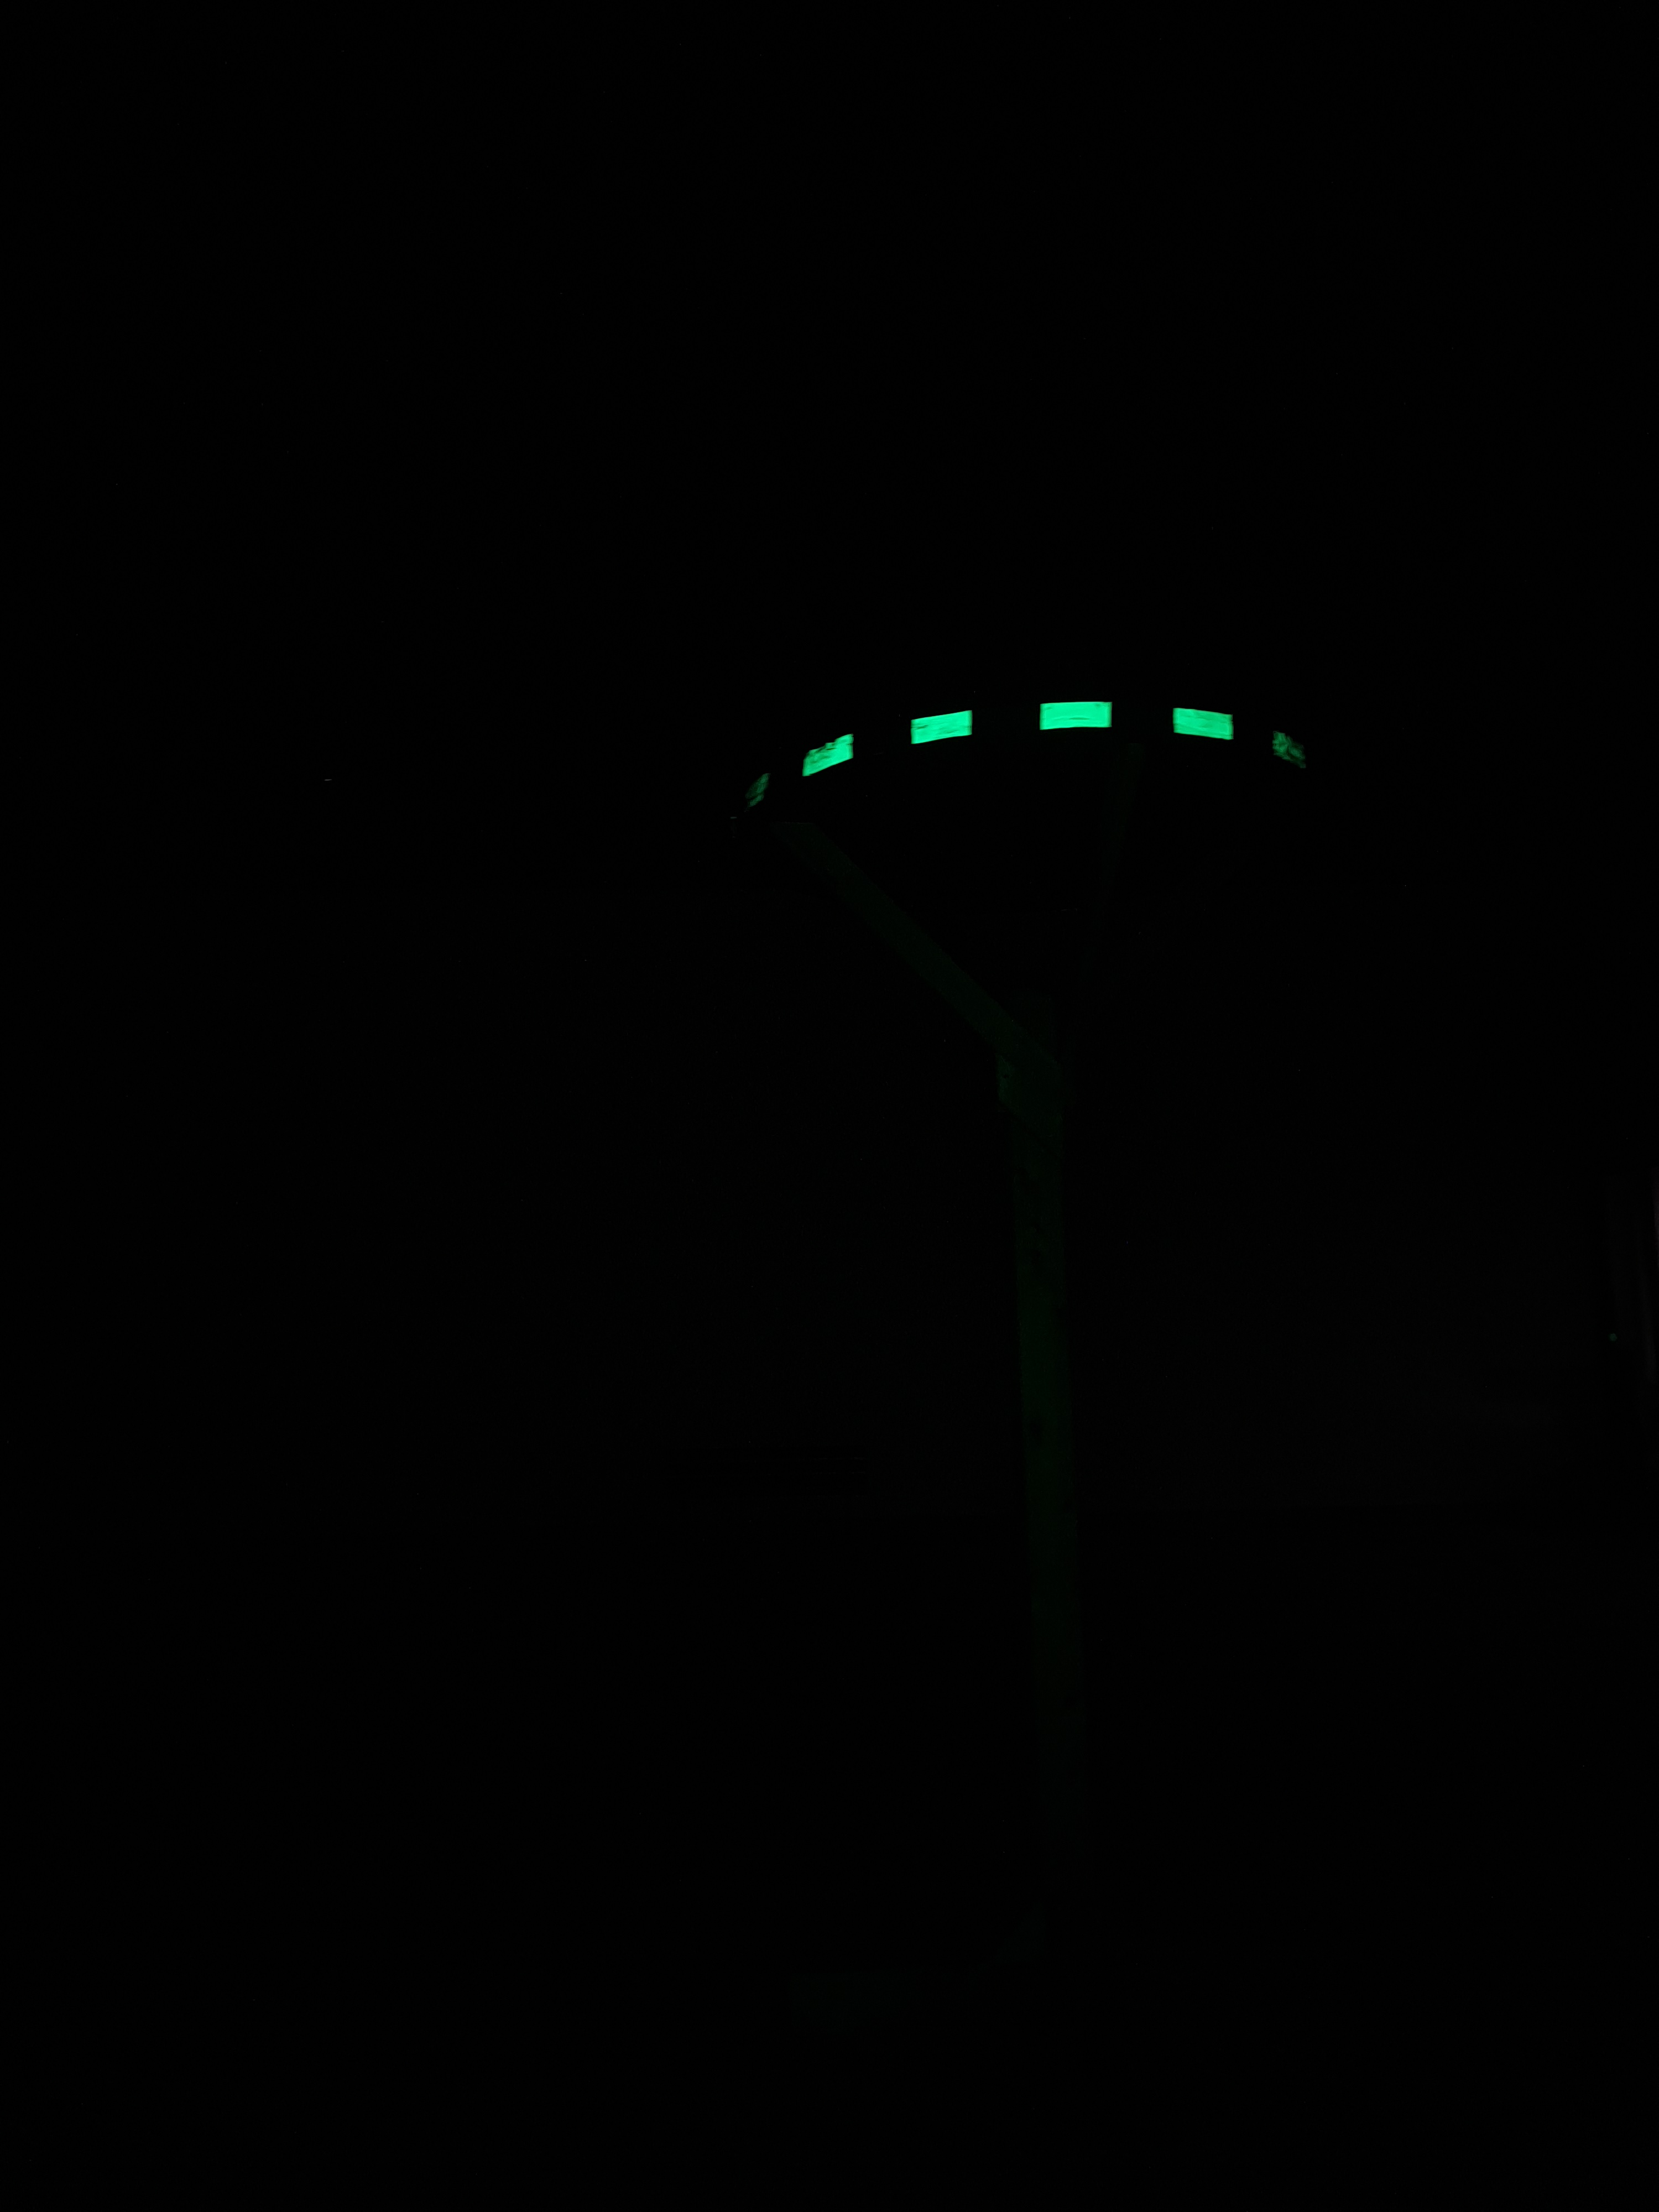hoop: (793, 693, 1314, 773)
